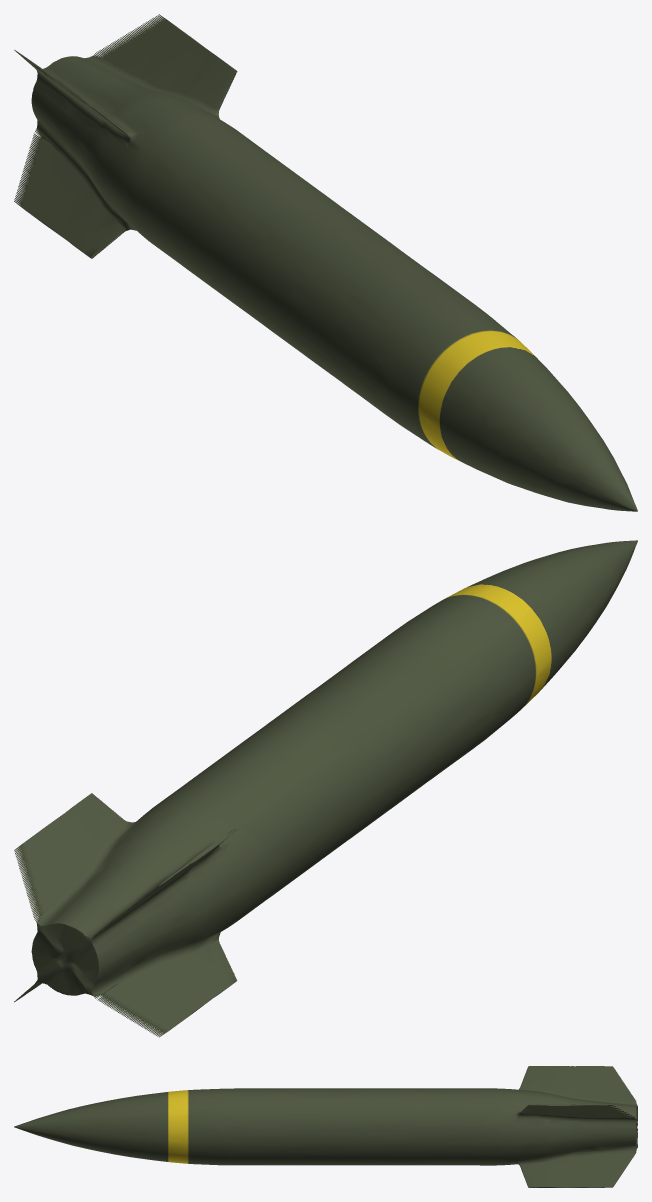
3 views of the same model, one above another, from view 1: azimuth 30°, elevation 25°; view 2: azimuth 150°, elevation 25°; view 3: azimuth 270°, elevation 25° (orthographic). The views are drawn at different scales.
Parts seen in each view (by area): view 1: airframe; view 2: airframe; view 3: airframe.
Part boxes in pixels (x1,y1,x2,y2): airframe: (14,14,637,511); airframe: (14,540,637,1037); airframe: (14,1066,637,1187).
Bounding box in the file's own units: 0.329 × 0.3286 × 2.21.
Materials: 1 (1 with a texture image).
